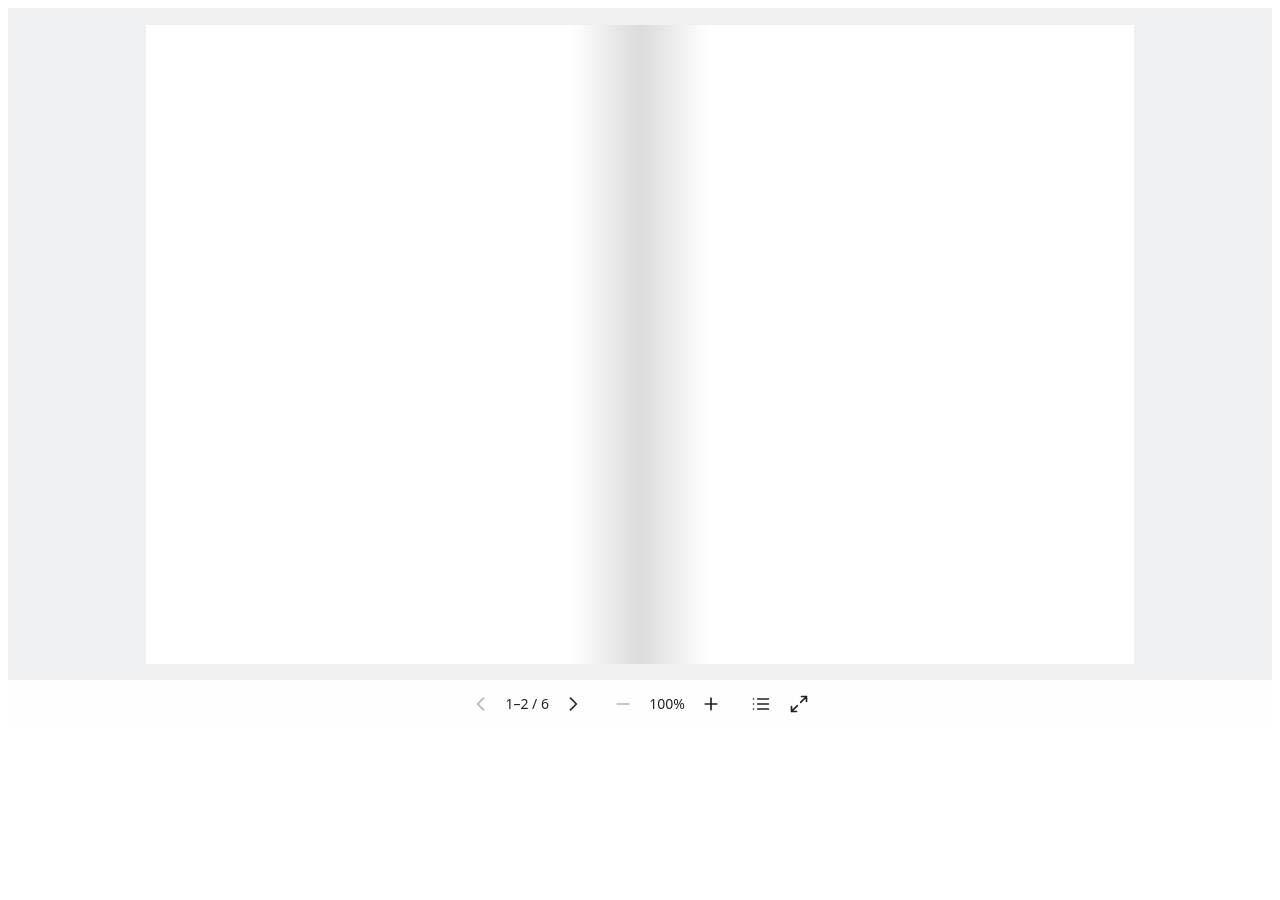
Scenario: contents panel › opens the parents of the section being read when the reader navigates elsewhere
The width and height of the screenshot is (1280, 900).
Click the button named "Contents": coordinates (761, 704) left=743, top=686, right=779, bottom=722
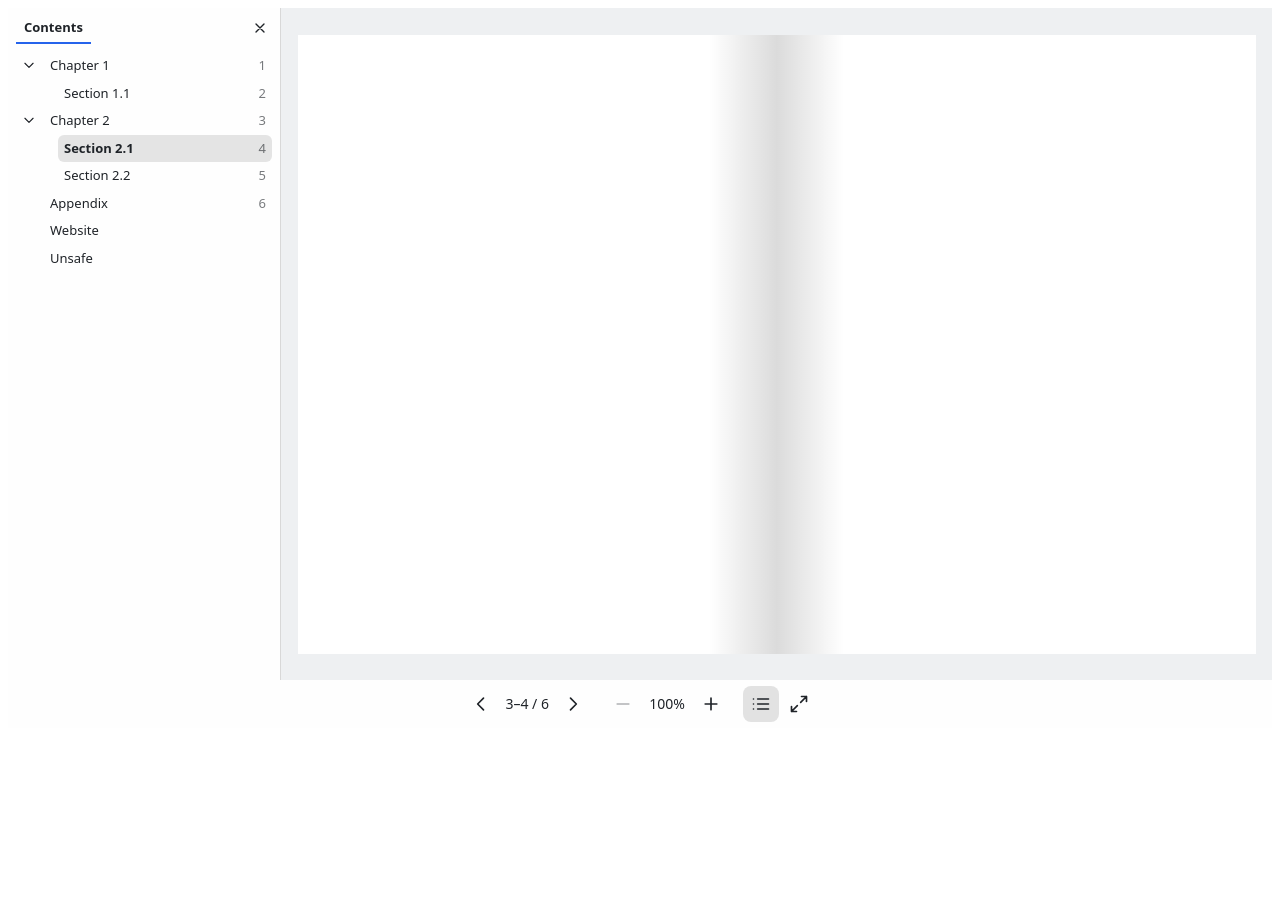
Expected: the text "Section 2.1" is shown, left=64, top=140, right=134, bottom=157
Expected: the text "Section 2.2" is shown, left=64, top=167, right=130, bottom=185
